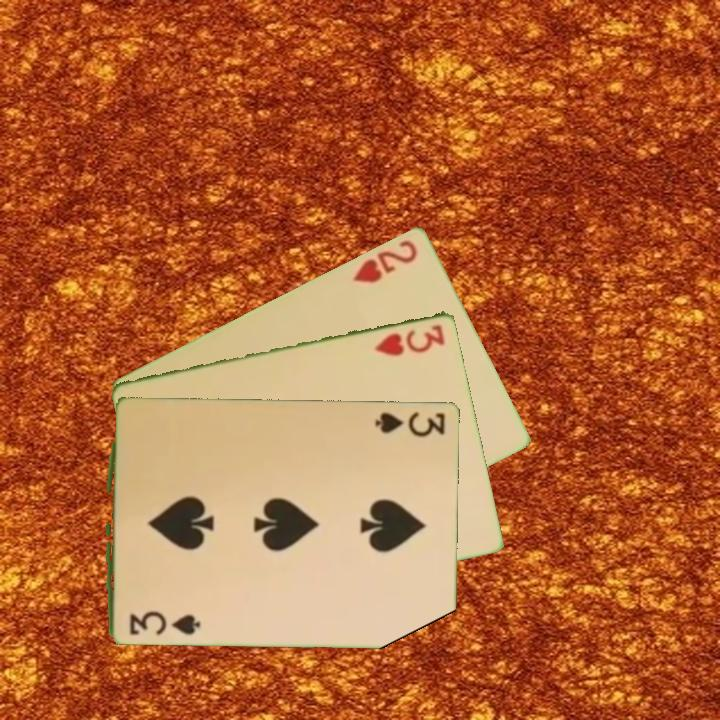2h: (349, 236, 421, 286)
3h: (371, 320, 449, 359)
3s: (372, 408, 448, 439), (127, 607, 199, 638)
